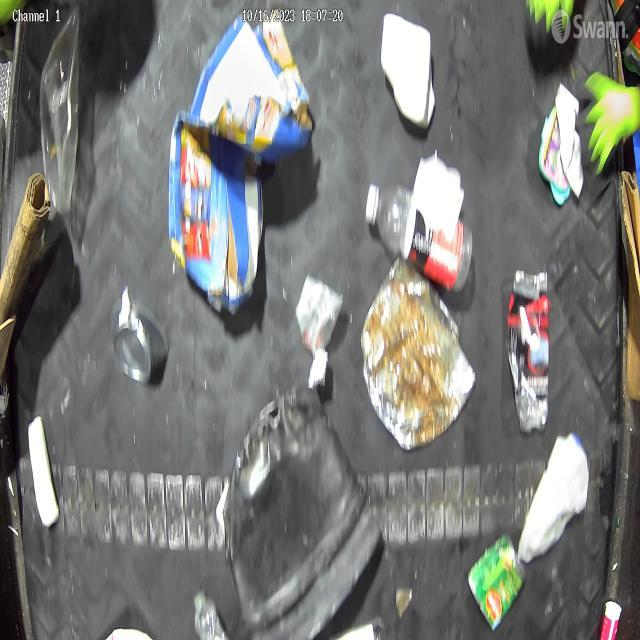can: (108, 298, 168, 384), (472, 534, 524, 628)
non_white_jug: (220, 386, 380, 640)
plastic_bottle: (363, 184, 470, 288)
